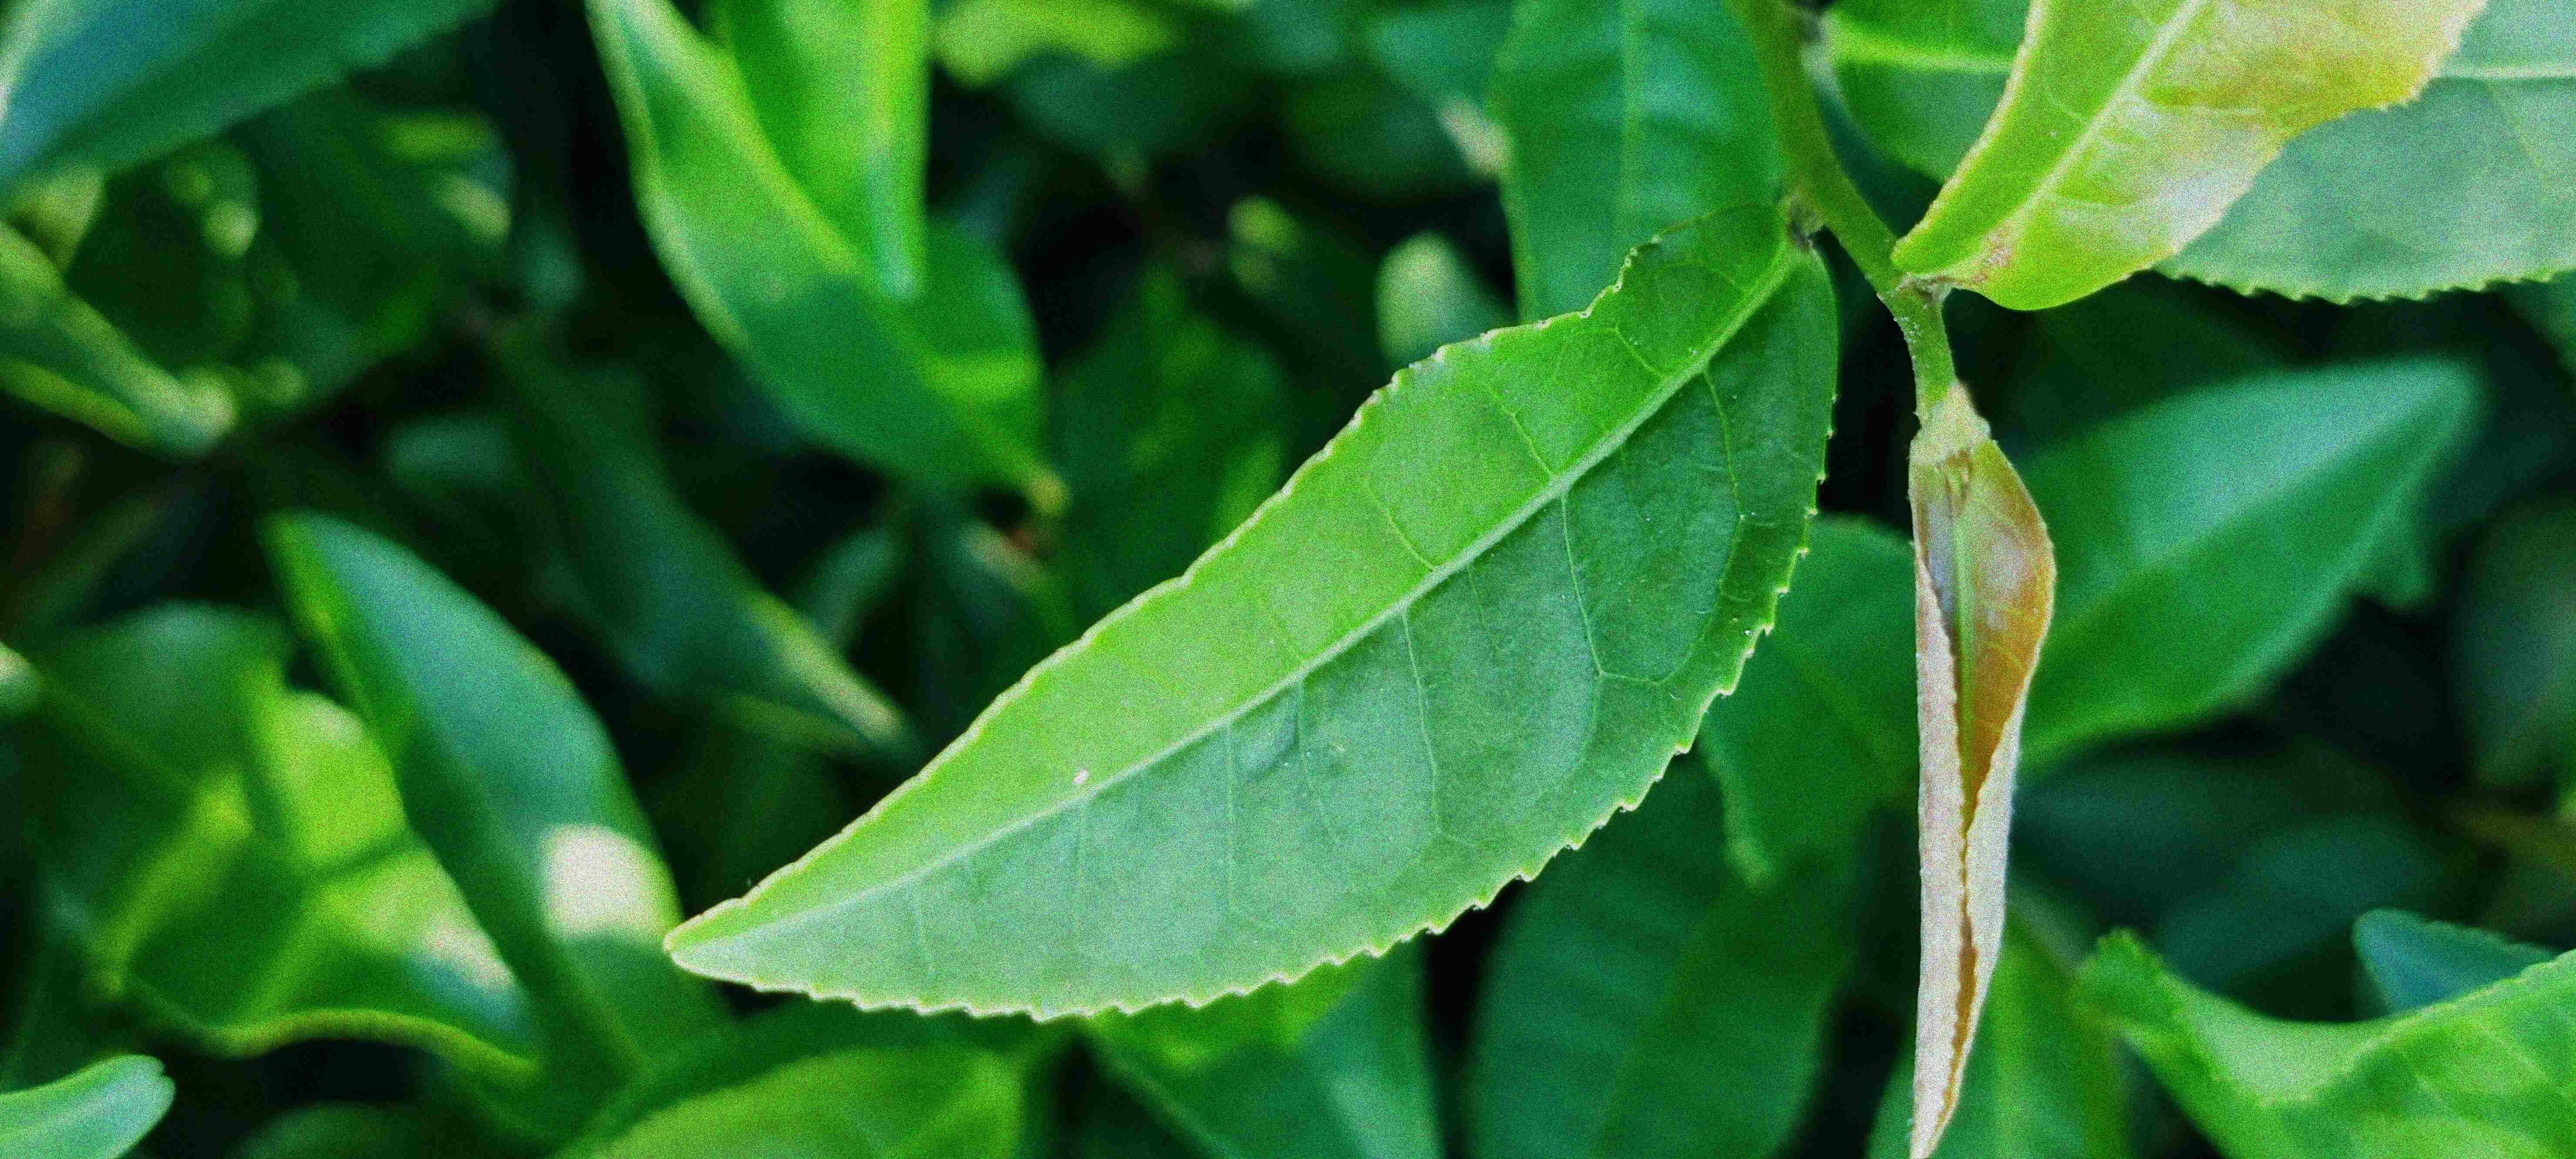healthy: (662, 200, 1850, 1026)
tanju_low: (1889, 5, 2489, 314), (1901, 425, 2062, 1157)
